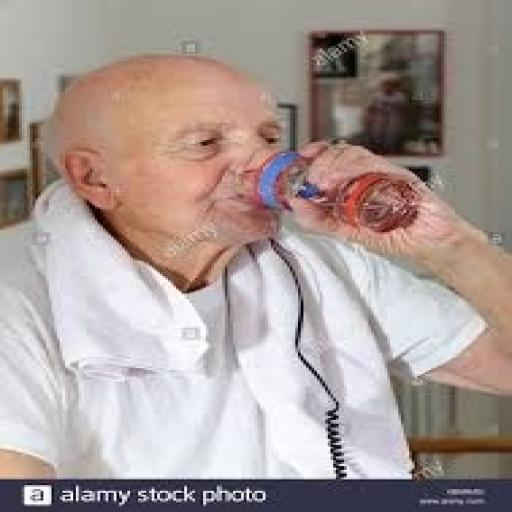drinking: (249, 148, 423, 234)
